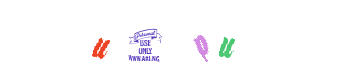7: (122, 0, 202, 80)
P: (130, 0, 210, 80)
U: (60, 0, 140, 80), (186, 0, 266, 80)
